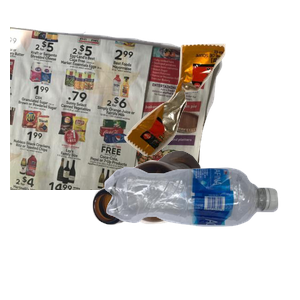glass: (90, 148, 300, 300)
paper: (10, 22, 225, 202)
plastic: (102, 165, 300, 300)
trash: (122, 41, 300, 190)
